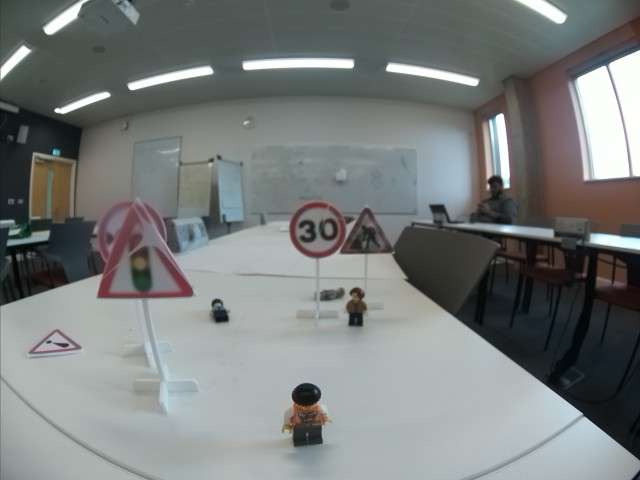30mph: (288, 199, 344, 260)
Lego Man: (279, 380, 334, 449), (342, 286, 371, 327), (207, 296, 232, 326), (313, 284, 346, 303)
Roadworks: (344, 206, 394, 254)
Traffic lights: (95, 199, 197, 299)
Warning: (24, 328, 86, 359)
